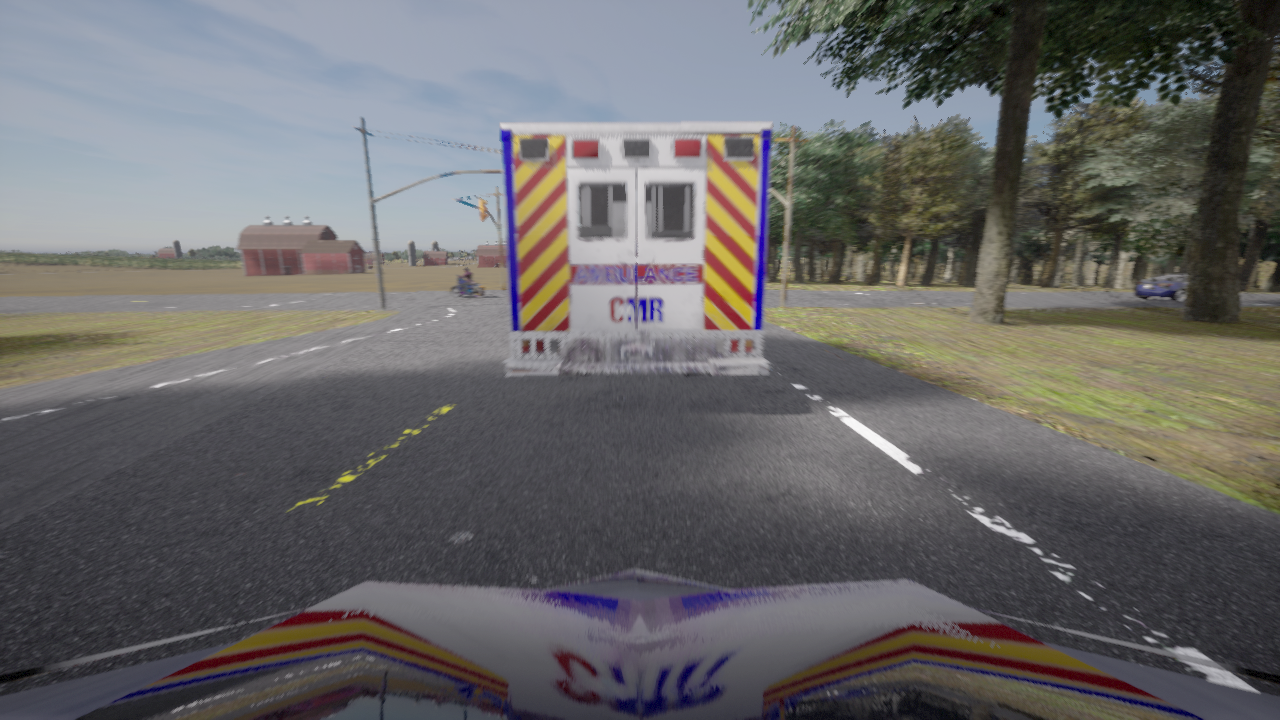cyclist: (0, 570, 1279, 719), (500, 122, 772, 375), (1135, 274, 1187, 300), (450, 277, 484, 297)
